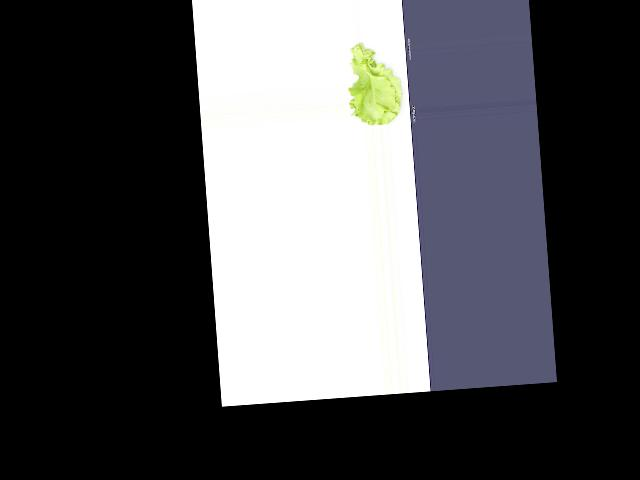lettuce: (344, 41, 408, 127)
